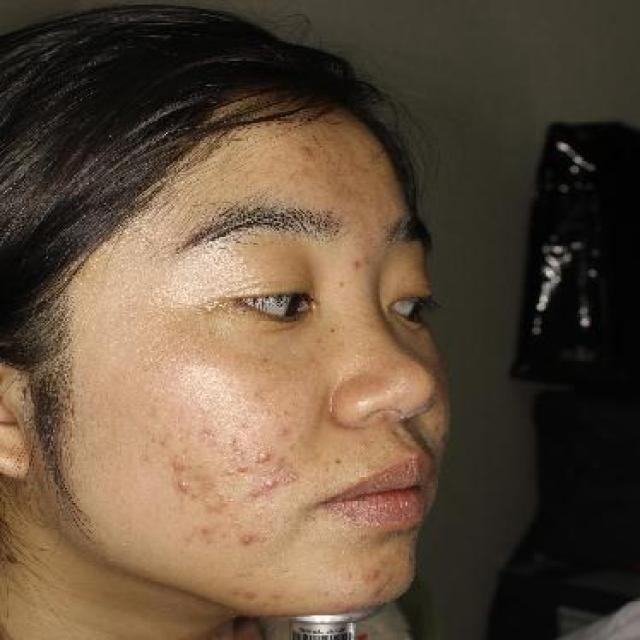papules: (294, 142, 320, 163), (235, 529, 260, 546), (361, 568, 385, 583), (234, 458, 255, 474), (170, 477, 192, 492), (255, 448, 275, 464), (264, 477, 282, 491)
whiteheads: (215, 489, 226, 500), (223, 468, 236, 477), (258, 500, 270, 509), (252, 509, 265, 517), (190, 492, 202, 500), (218, 500, 230, 508)
